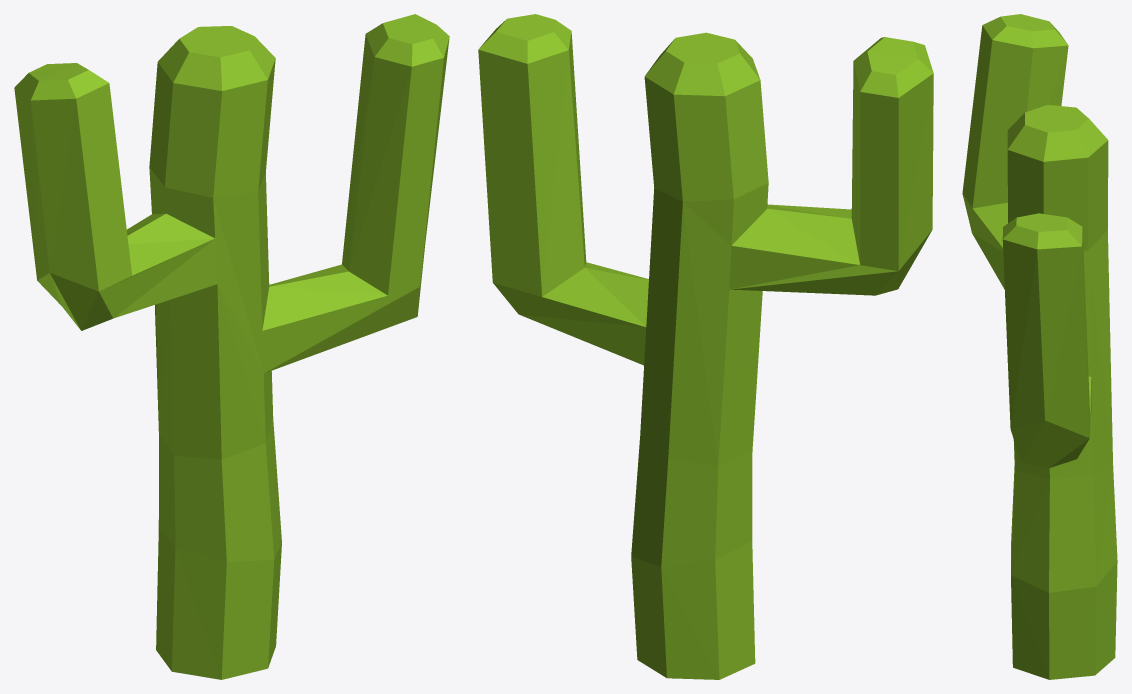
Rendered from tripleCactus.gltf.
3 renders of one model, left to right at view 1: azimuth 30°, elevation 25°; view 2: azimuth 150°, elevation 25°; view 3: azimuth 270°, elevation 25°, orthographic. The views are drawn at different scales.
Visible parts, largest first — view 1: Cylinder.001; view 2: Cylinder.001; view 3: Cylinder.001.
Boxes of the visible parts, x1,y1,x2,y2 form: Cylinder.001: [14, 14, 449, 679]; Cylinder.001: [478, 14, 933, 679]; Cylinder.001: [962, 14, 1117, 679].
Size of the model in its own units: 8.09 by 11.55 by 2.88.
